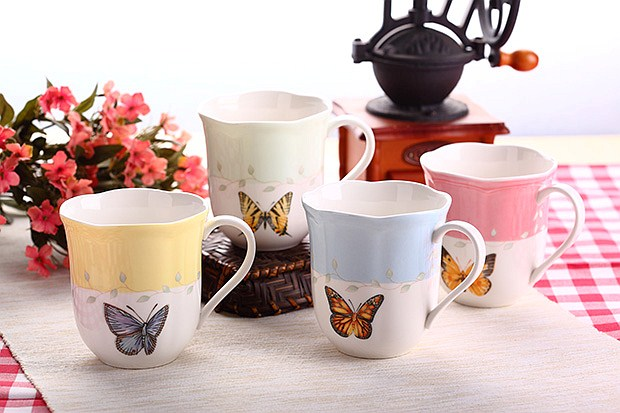cup: (58, 186, 256, 371), (301, 180, 487, 361), (196, 87, 375, 252), (420, 141, 586, 310)
